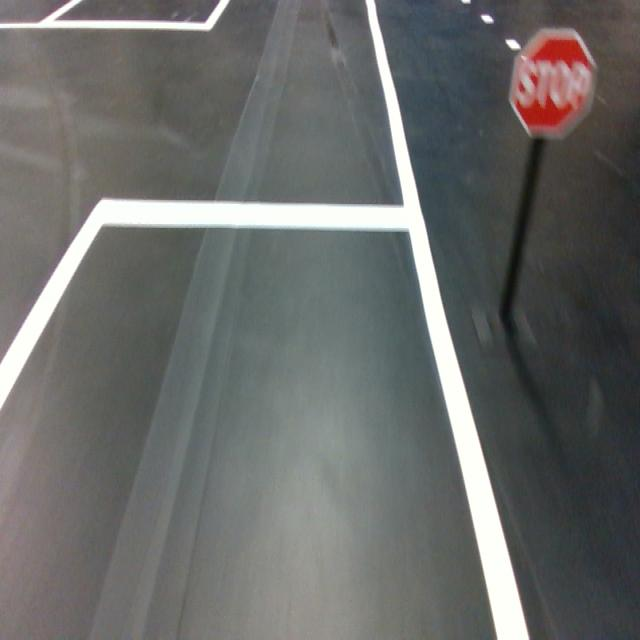stop-sign: (507, 27, 600, 142)
